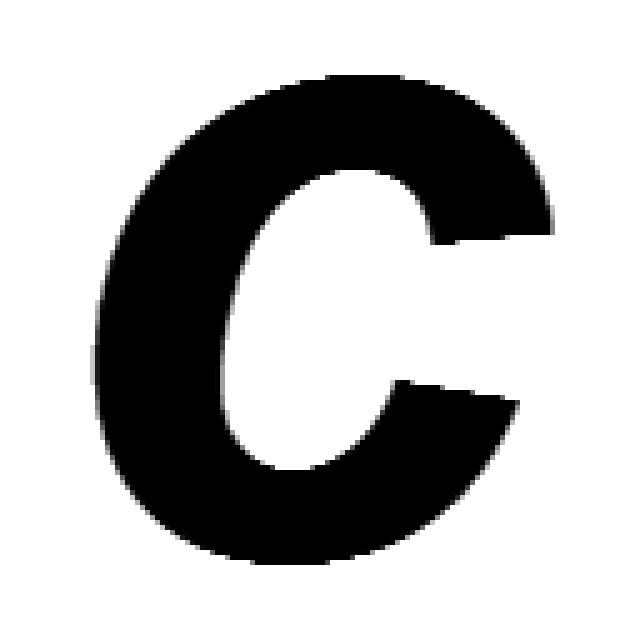C: (95, 75, 555, 565)
